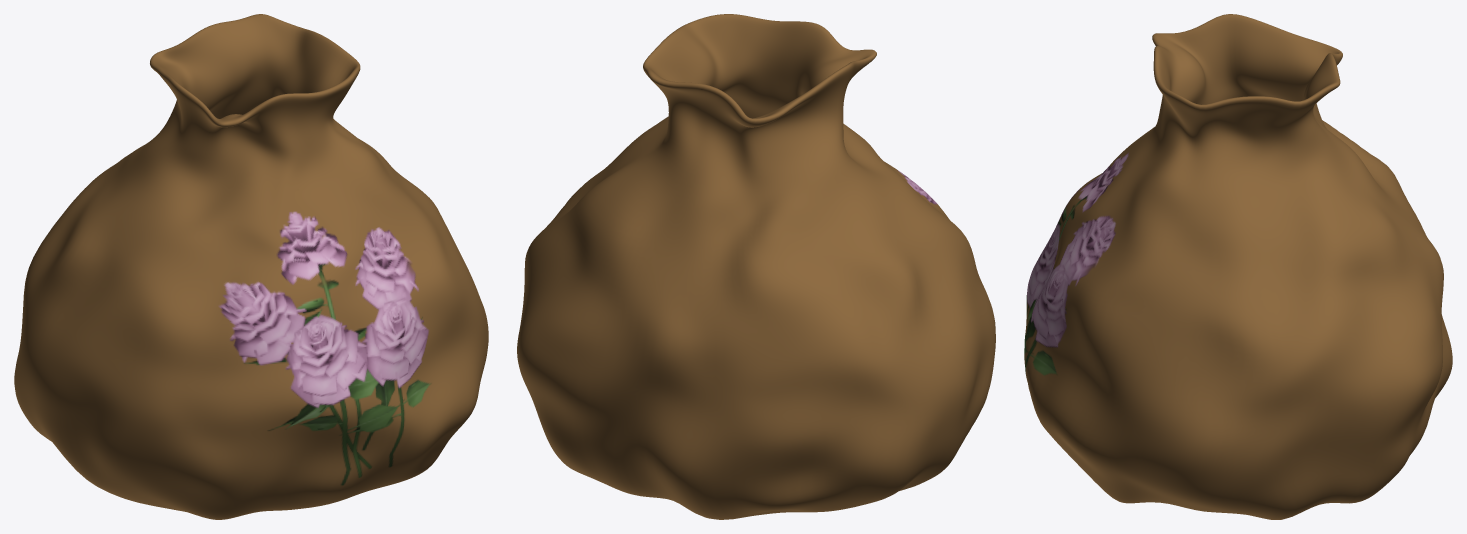
File: rose_seed.fbx
3 views of the same model, side by side, from view 1: azimuth 30°, elevation 25°; view 2: azimuth 150°, elevation 25°; view 3: azimuth 270°, elevation 25° (orthographic). The views are drawn at different scales.
Visible parts, largest first — view 1: zak; view 2: zak; view 3: zak.
Boxes of the visible parts, x1,y1,x2,y2 form: zak: [14, 14, 488, 519]; zak: [517, 14, 995, 519]; zak: [1024, 14, 1452, 519].
Size of the model in its own units: 196 by 175 by 183.
Materials: 1 (1 with a texture image).
